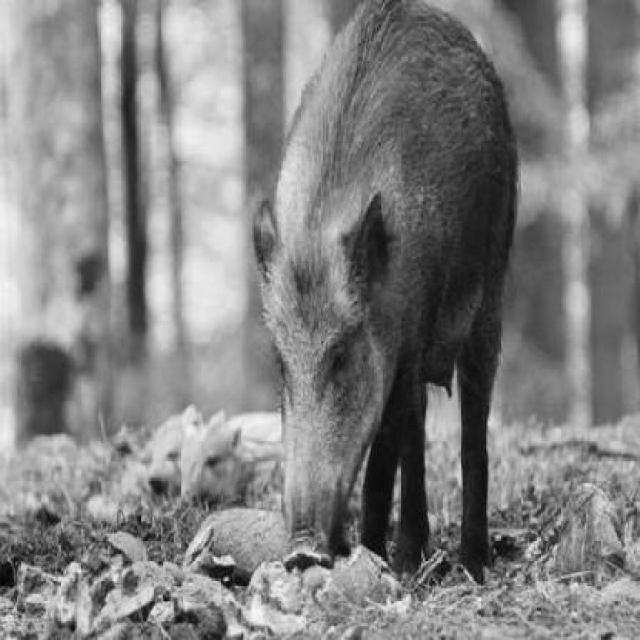Boar: (264, 0, 530, 600)
